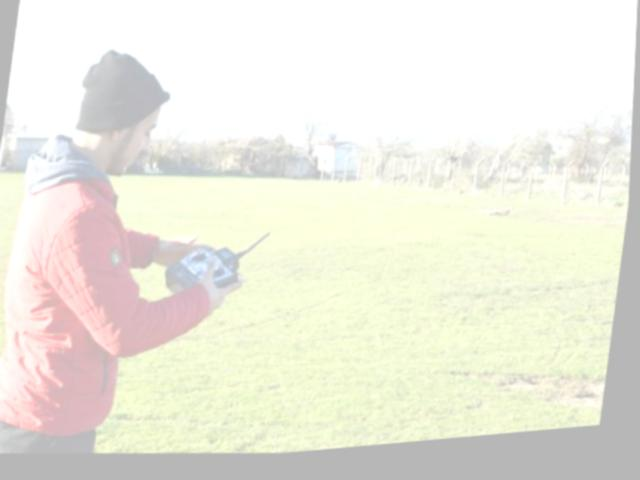iha: (472, 203, 522, 236)
